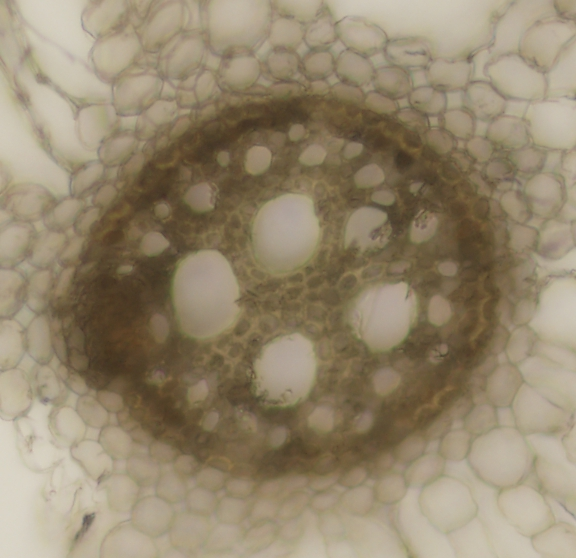lm: (169, 249, 241, 340), (249, 192, 323, 277), (249, 332, 317, 408), (354, 280, 417, 351), (343, 206, 393, 262)
